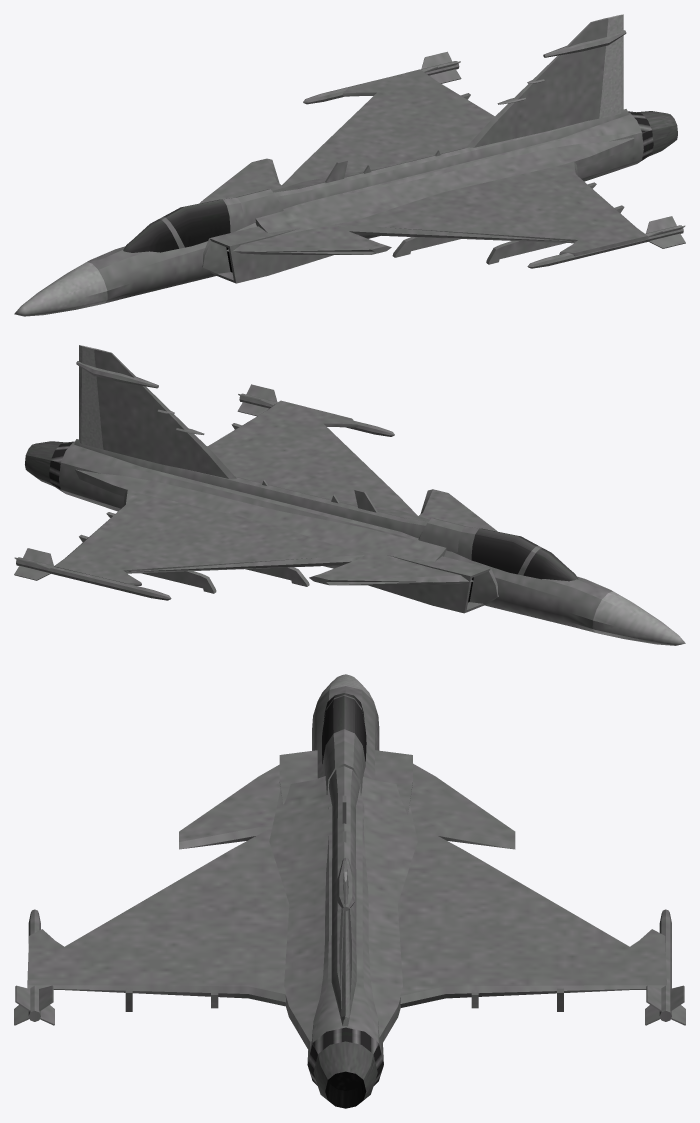
File: generic_jet.obj
3 renders of one model, top to bottom at view 1: azimuth 30°, elevation 25°; view 2: azimuth 150°, elevation 25°; view 3: azimuth 270°, elevation 25°, orthographic. The views are drawn at different scales.
Parts seen in each view (by area): view 1: Circle; view 2: Circle; view 3: Circle.
Part boxes in pixels (x1,y1,x2,y2): Circle: (14, 14, 685, 316); Circle: (14, 345, 685, 645); Circle: (14, 674, 685, 1108).
Size of the model in its own units: 6.65 by 1.54 by 4.19.
1 material, 1 textured.
